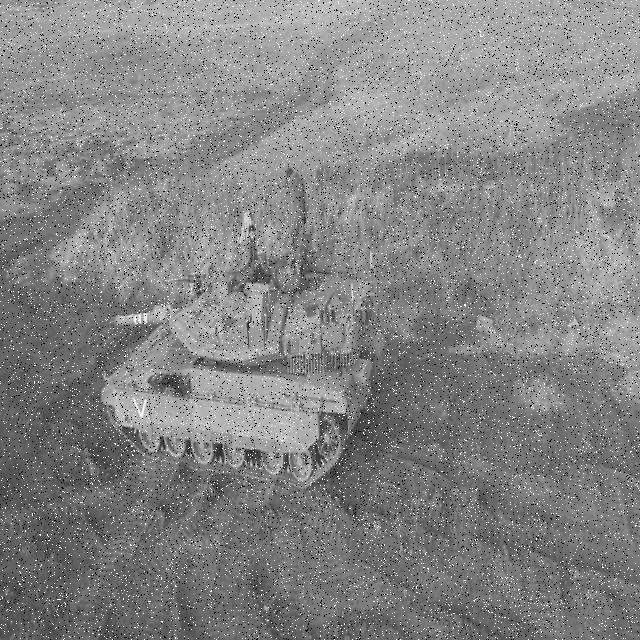MIL_MBT: (90, 263, 398, 468)
